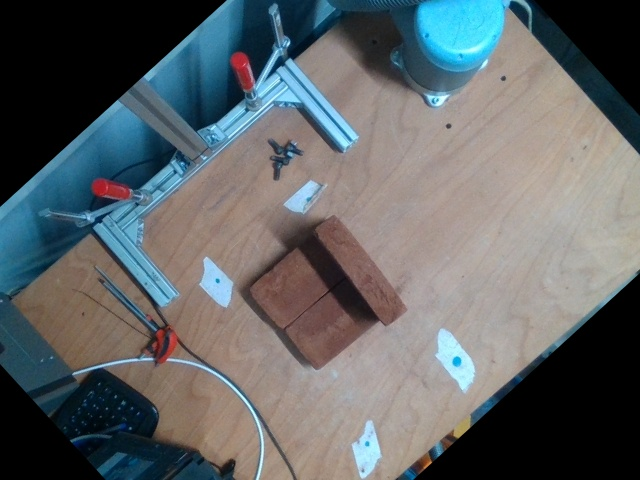brick-side: (312, 213, 404, 323)
